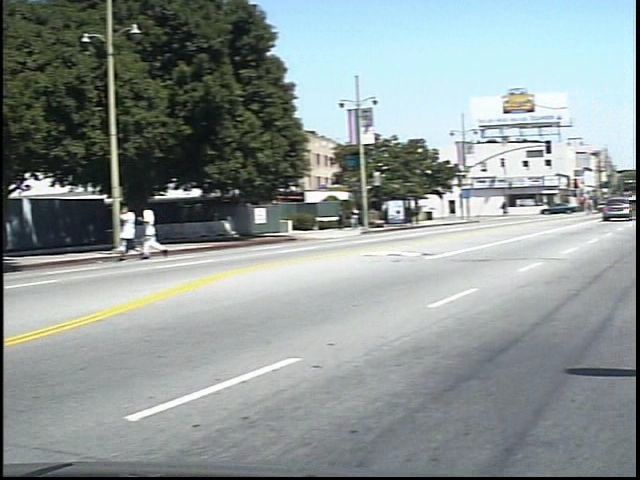person: (153, 199, 179, 261), (132, 198, 157, 261), (361, 203, 376, 231), (346, 206, 360, 231), (511, 196, 523, 219)
